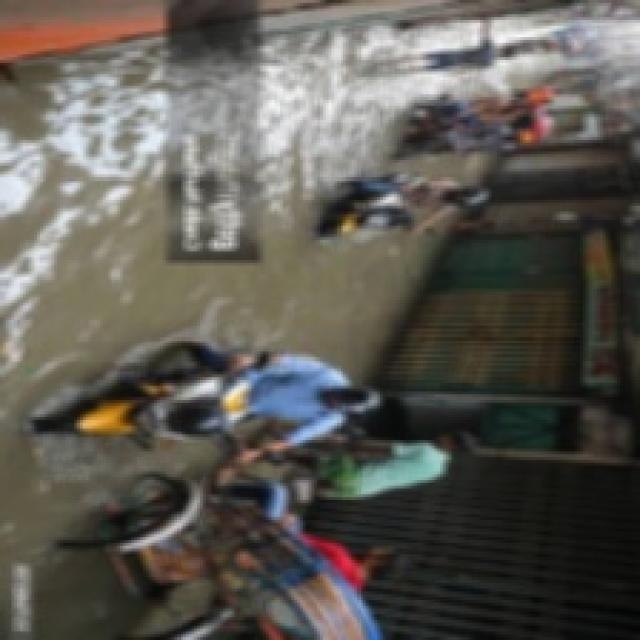bike: (43, 349, 309, 453), (309, 170, 428, 246)
rickshaw: (89, 458, 421, 638), (393, 96, 517, 162)
